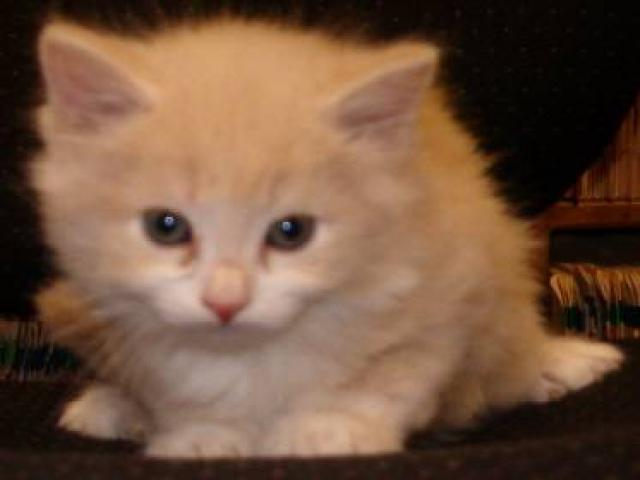cat: (16, 8, 626, 457)
